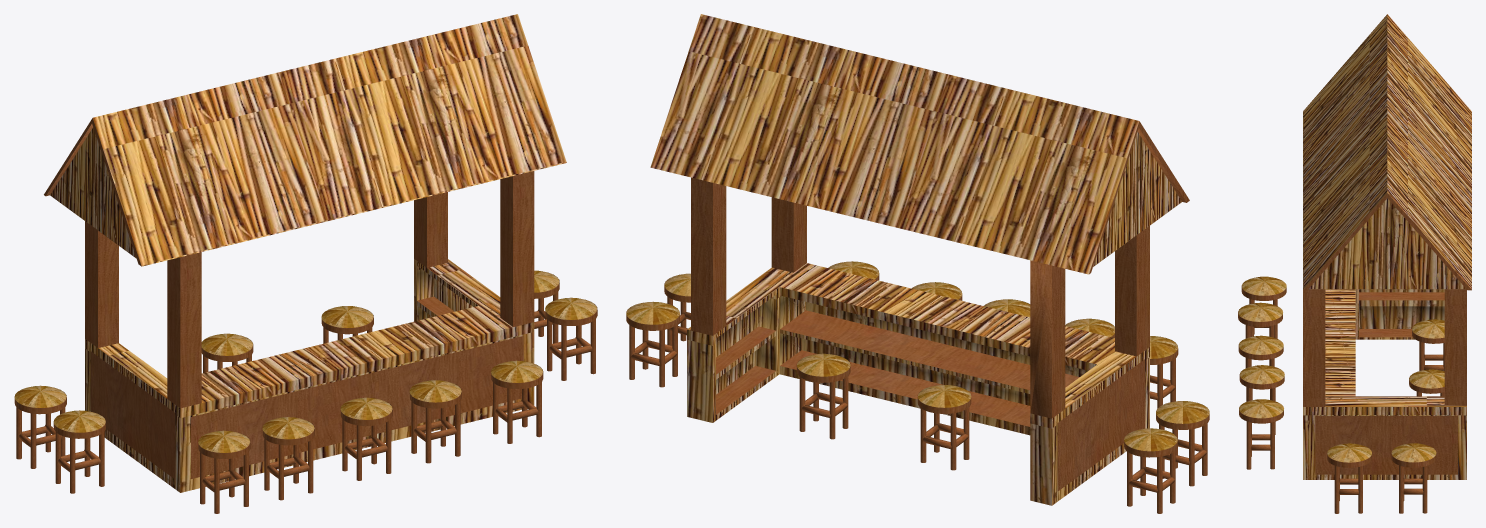
File: tiki-bar.glb
3 views of the same model, side by side, from view 1: azimuth 30°, elevation 25°; view 2: azimuth 150°, elevation 25°; view 3: azimuth 270°, elevation 25° (orthographic). The views are drawn at different scales.
Parts seen in each view (by area): view 1: Material2 (×5); view 2: Material2 (×5); view 3: Material2 (×5).
Boxes of the visible parts, box(x1,y1,x2,y2) form: Material2 (×5): box(14, 14, 597, 513); Material2 (×5): box(626, 14, 1209, 513); Material2 (×5): box(1238, 14, 1471, 513).
Size of the model in its own units: 238 by 149 by 105.
5 materials, 5 textured.
